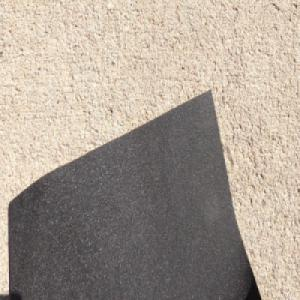PaintChip: (6, 83, 263, 300)
